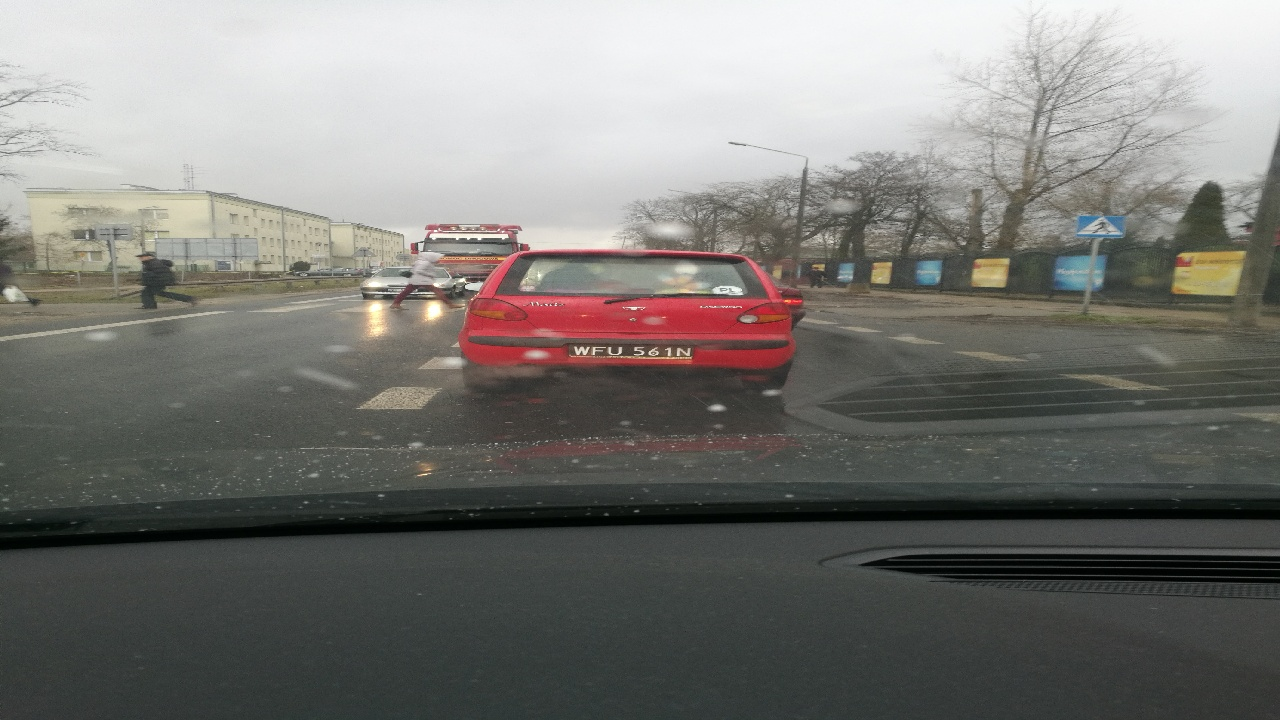D6: (1074, 206, 1131, 246)
